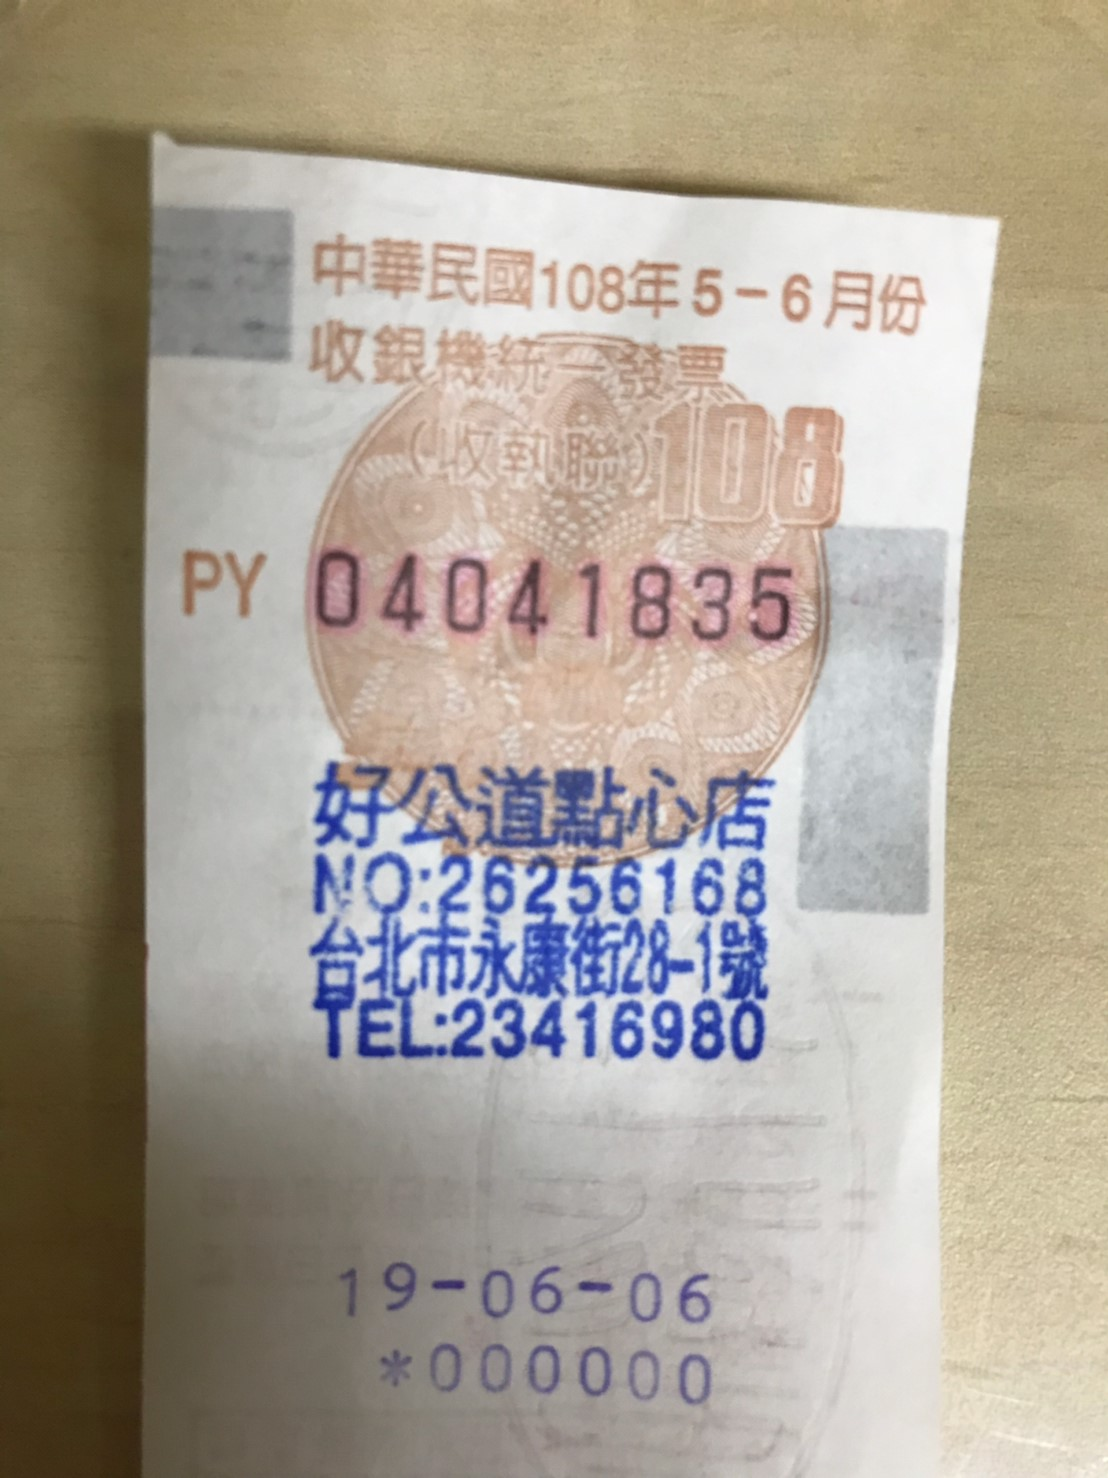Date_Old: (538, 253, 939, 346)
Number_Old: (312, 545, 800, 649)
